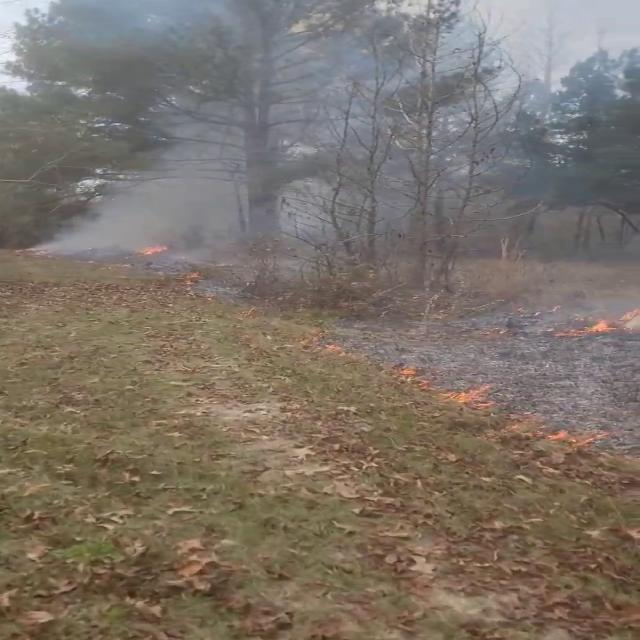Fire: (589, 302, 640, 336), (134, 240, 172, 260)
Smoke: (48, 124, 267, 250)
